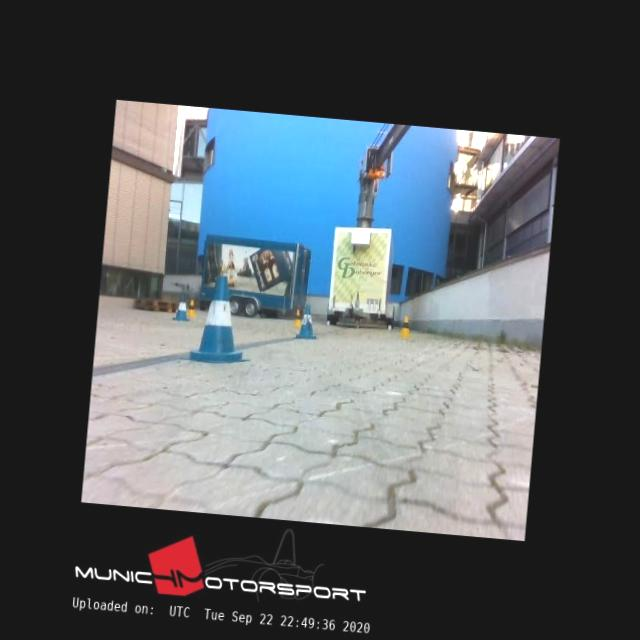blue_cone: (188, 274, 256, 365), (296, 304, 320, 340), (172, 293, 190, 321)
yellow_cone: (398, 315, 412, 337), (187, 298, 197, 317), (292, 308, 302, 326)
